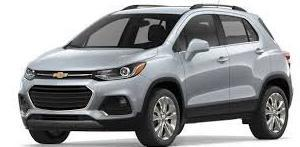Crossovers: (20, 5, 294, 147)
